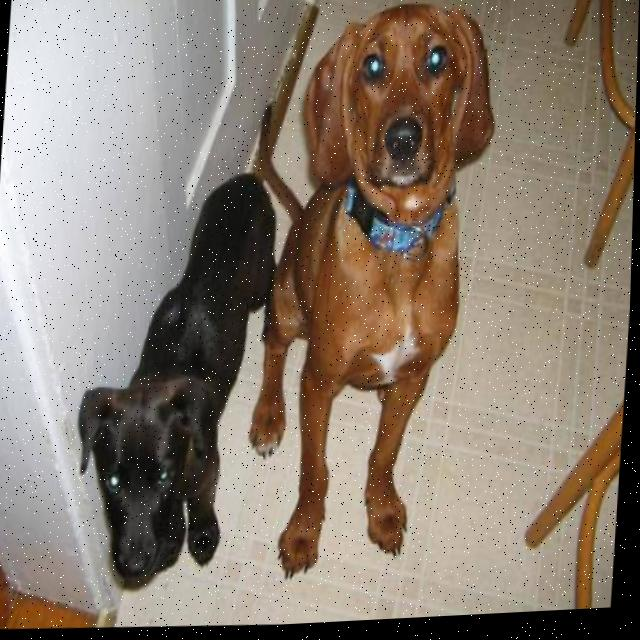dogs: (244, 0, 519, 603), (59, 142, 285, 606)
